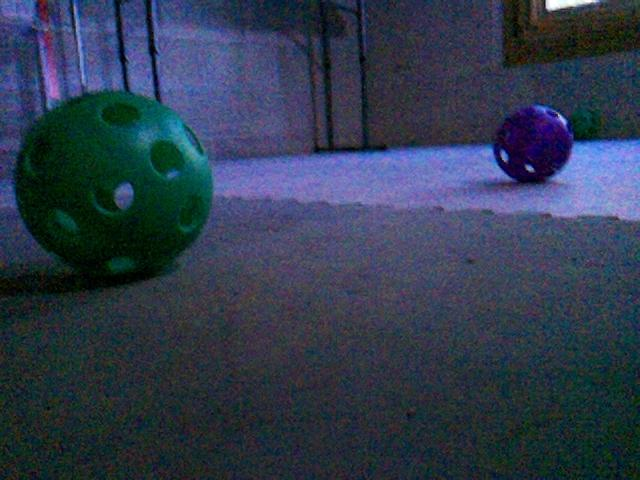Green: (8, 87, 215, 284), (568, 105, 601, 139)
Purple: (490, 104, 574, 184)
